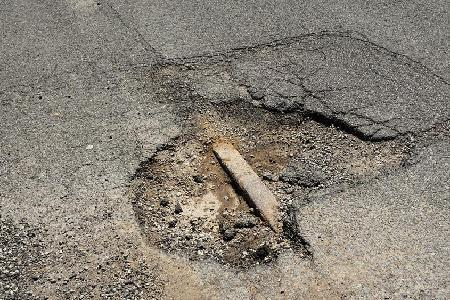Pothole: (124, 94, 417, 274)
